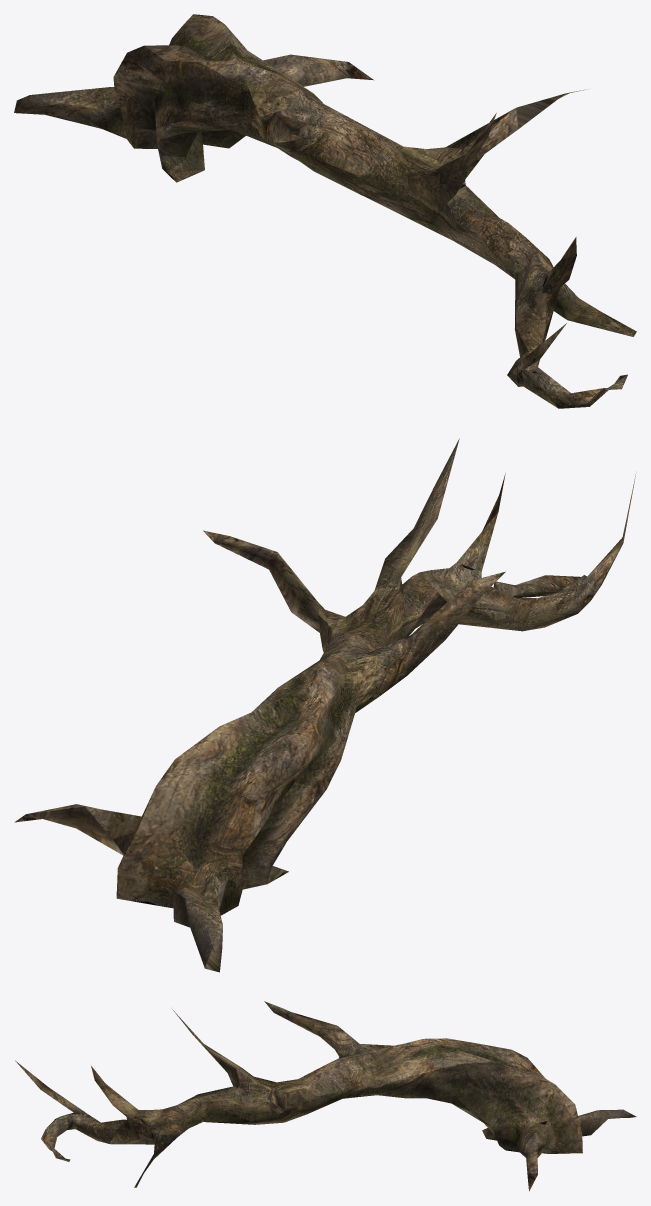
The model's file is Dead_tree.FBX.
The picture shows the model from 3 angles, top to bottom: view 1: azimuth 30°, elevation 25°; view 2: azimuth 150°, elevation 25°; view 3: azimuth 270°, elevation 25°; orthographic projection. The views are drawn at different scales.
Parts seen in each view (by area): view 1: Dead_tree; view 2: Dead_tree; view 3: Dead_tree.
Boxes of the visible parts, left/top/right/bottom form: Dead_tree: left=14, top=14, right=636, bottom=408; Dead_tree: left=14, top=438, right=635, bottom=972; Dead_tree: left=15, top=1001, right=636, bottom=1191.
Bounding box in the file's own units: 74.85 × 56.59 × 213.
